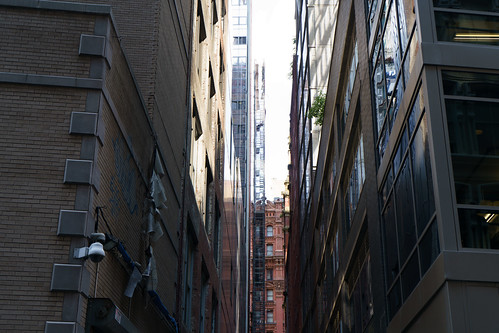building: (1, 1, 229, 332), (290, 1, 499, 326), (230, 1, 268, 331), (264, 202, 287, 328)
